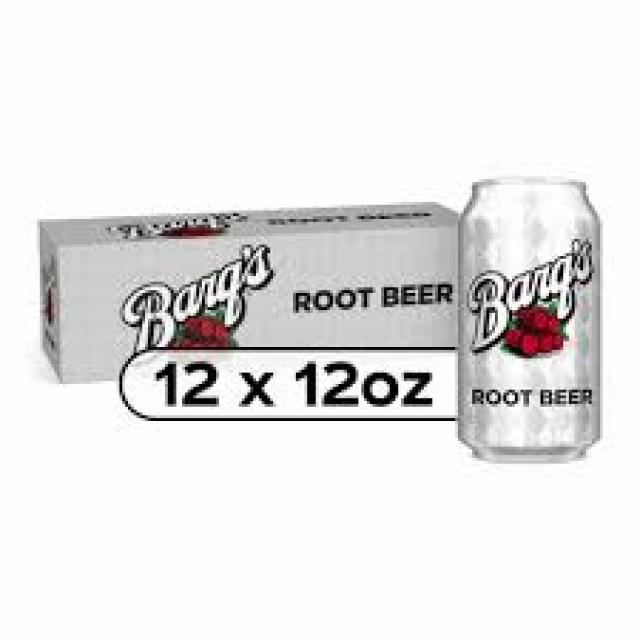Cans: (444, 165, 617, 475)
